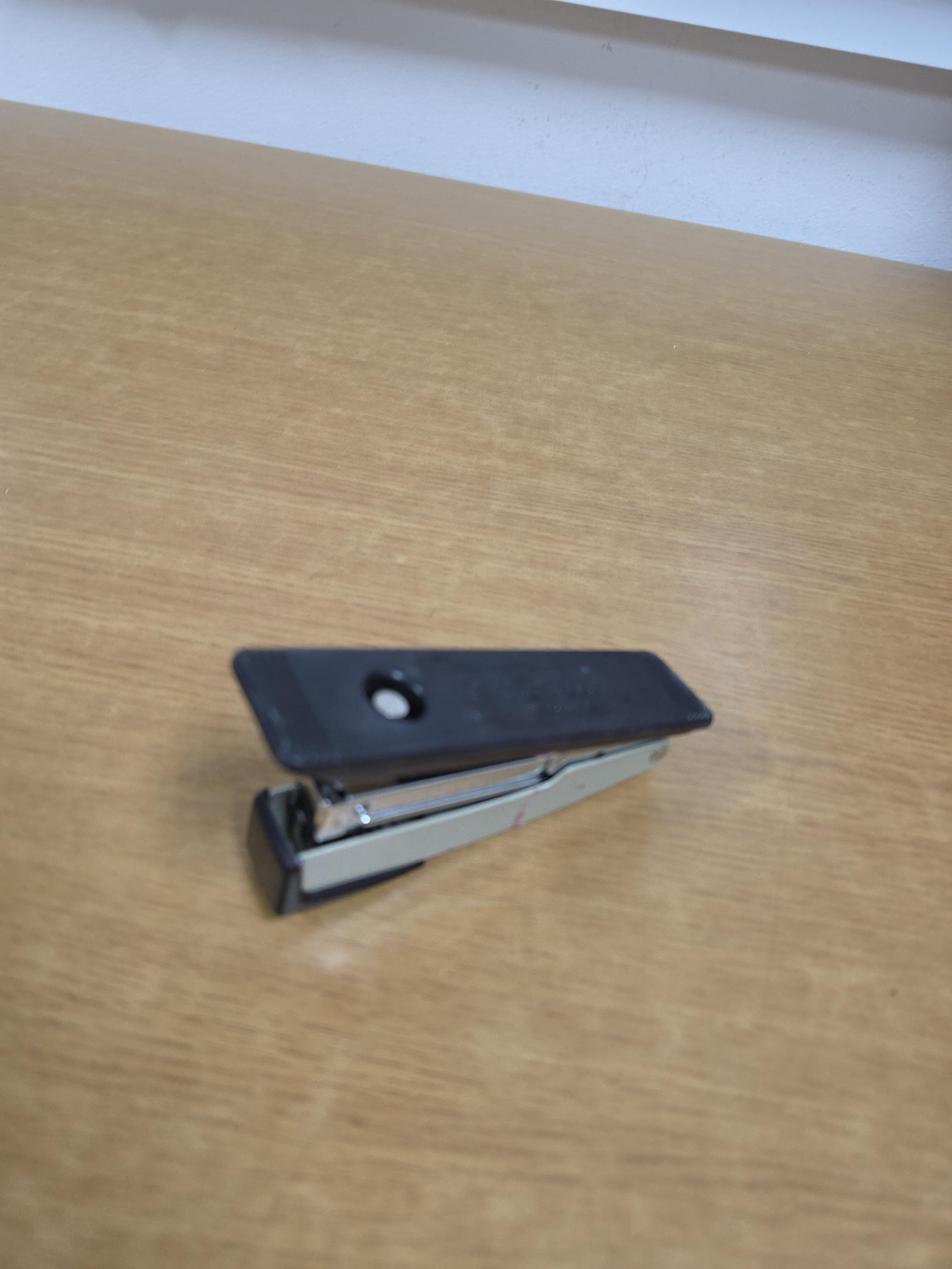stapler: (230, 646, 714, 915)
